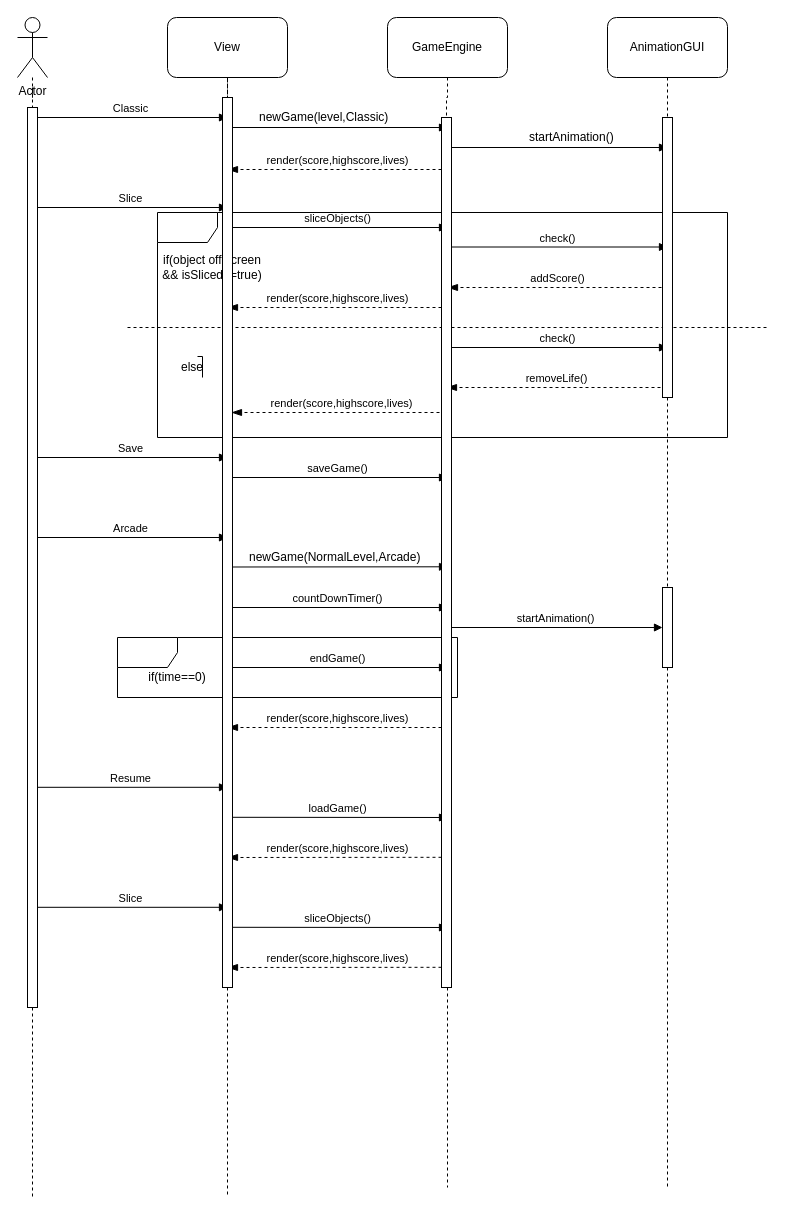
The diagram is 787 pixels wide and 1216 high, and some of its shapes have lost their labels. Here are the shapes that lost their labels. From the top down, the box of each, then its label:
(156, 212, 728, 438): Alternative
(116, 636, 458, 698): Condition
